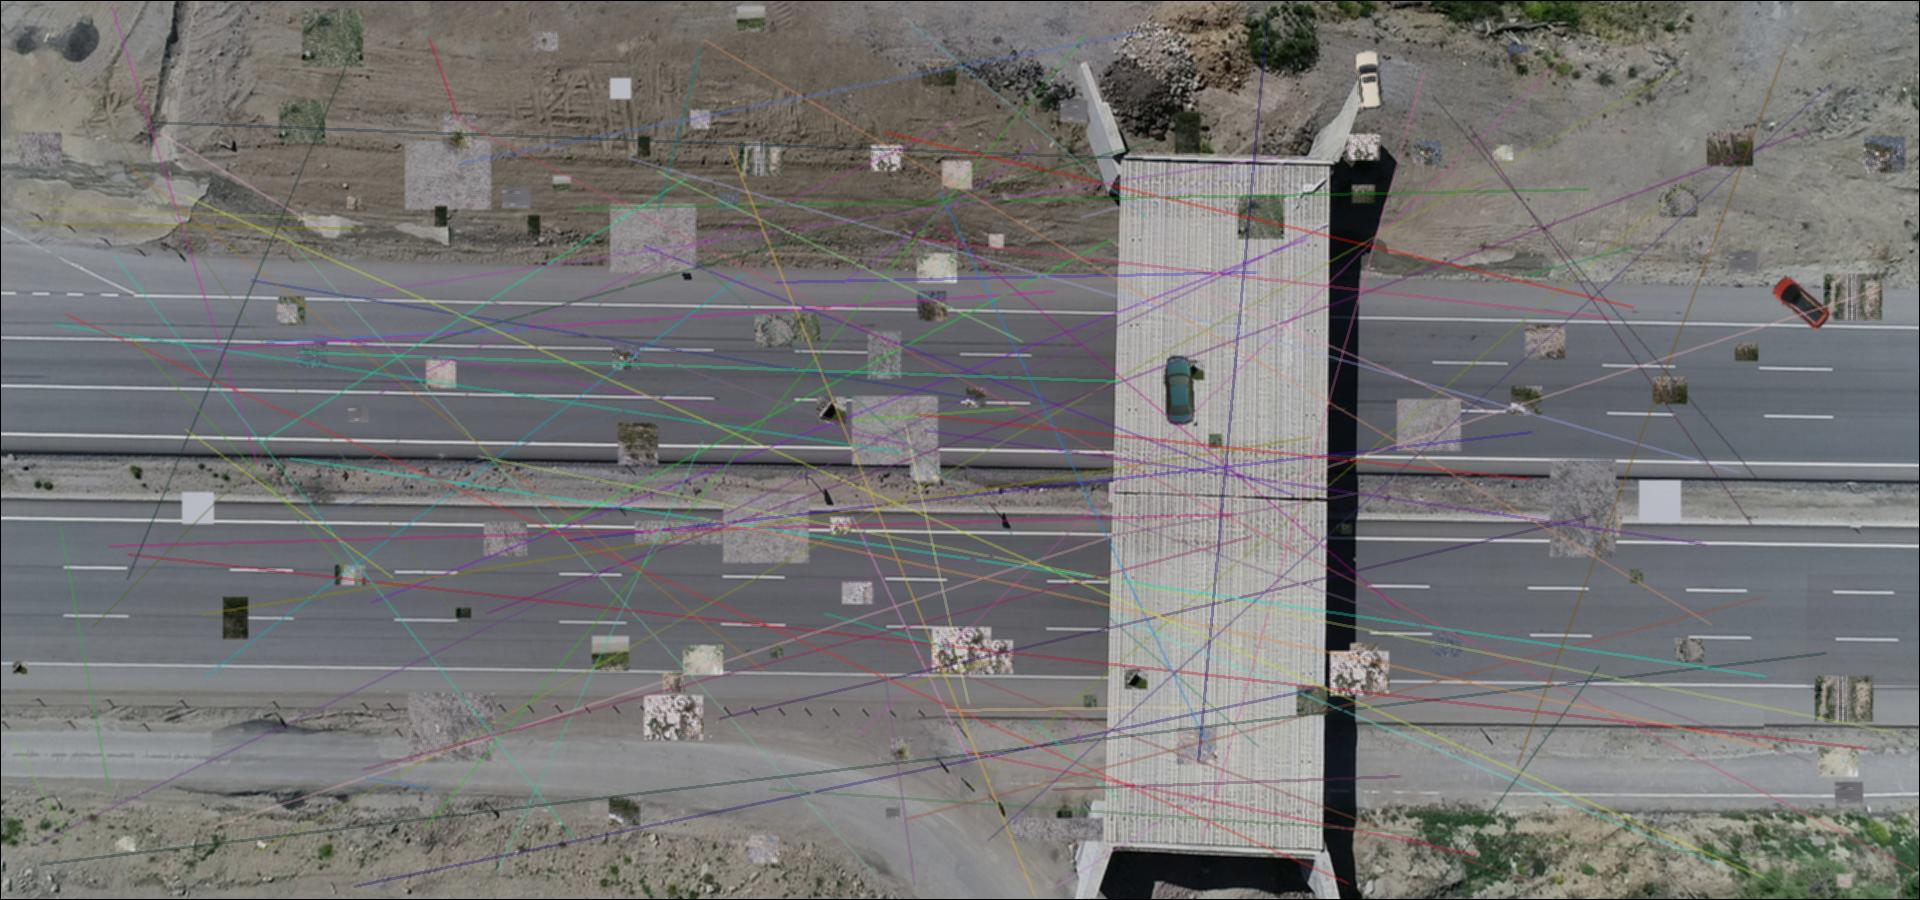arac: (1771, 276, 1832, 331), (1163, 355, 1198, 426), (1354, 51, 1385, 109)
